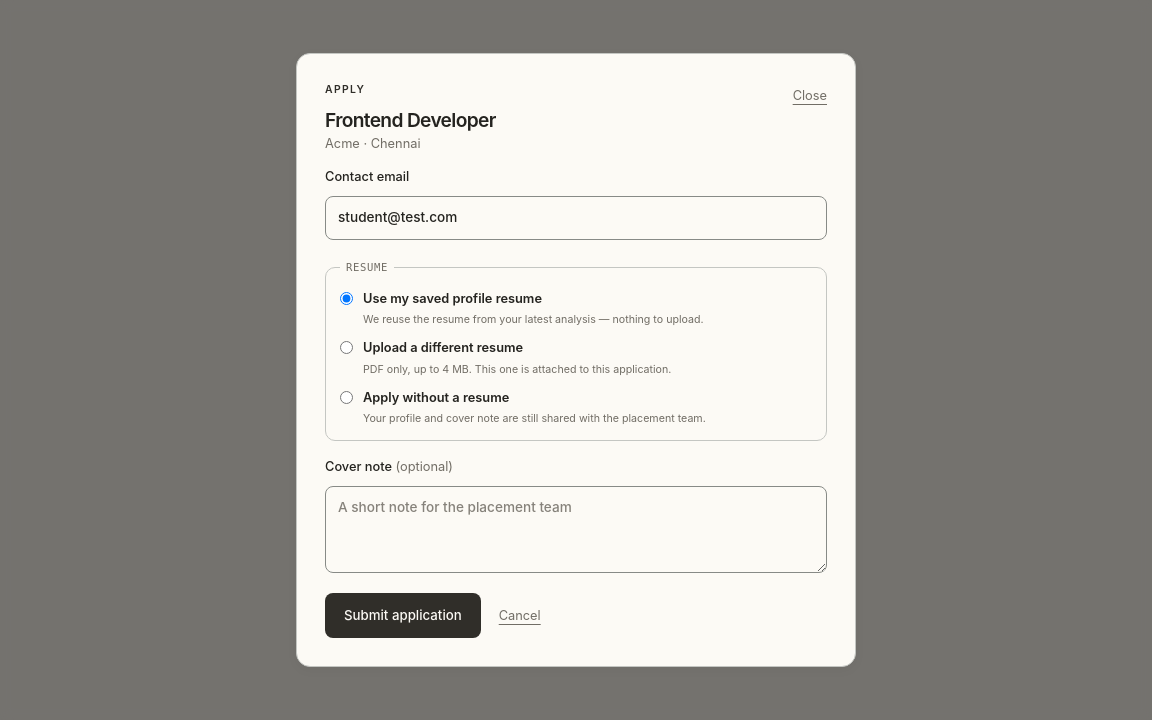
it: ApplyDialog › requires a file when uploading a different resume
Click the radio button labelled "Upload a different resume".
click(346, 348)  # box [340,341,353,354]
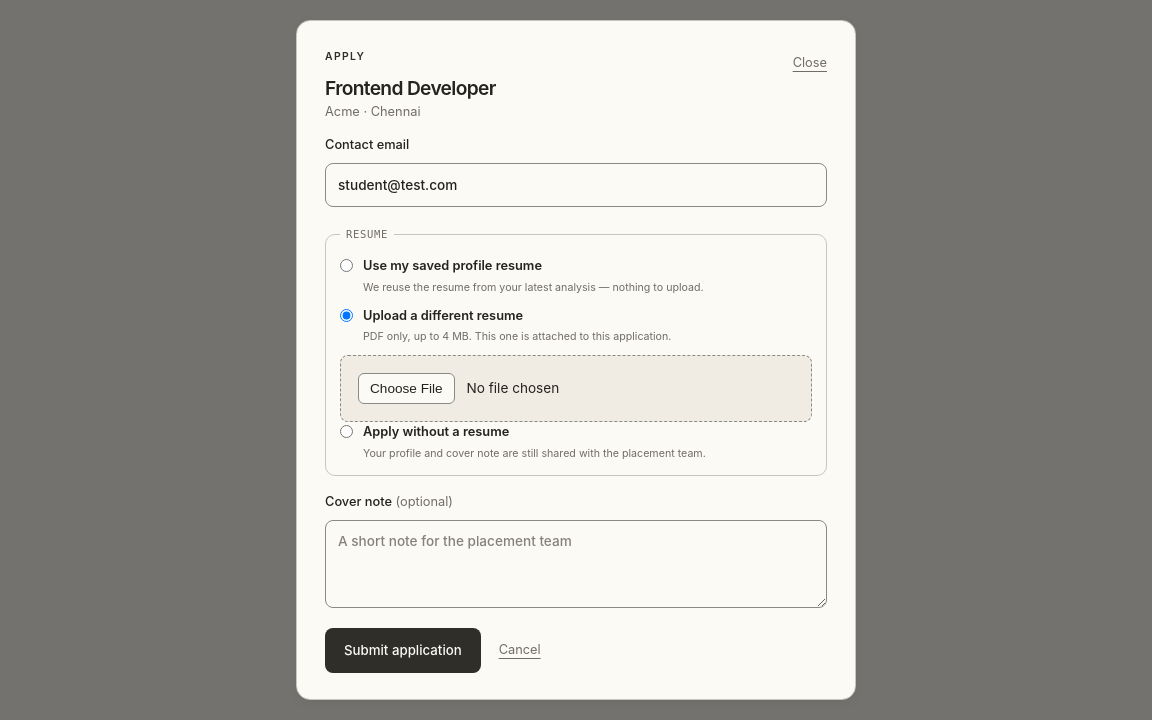
Click the button "Submit application".
click(403, 650)  # box [325,628,481,673]
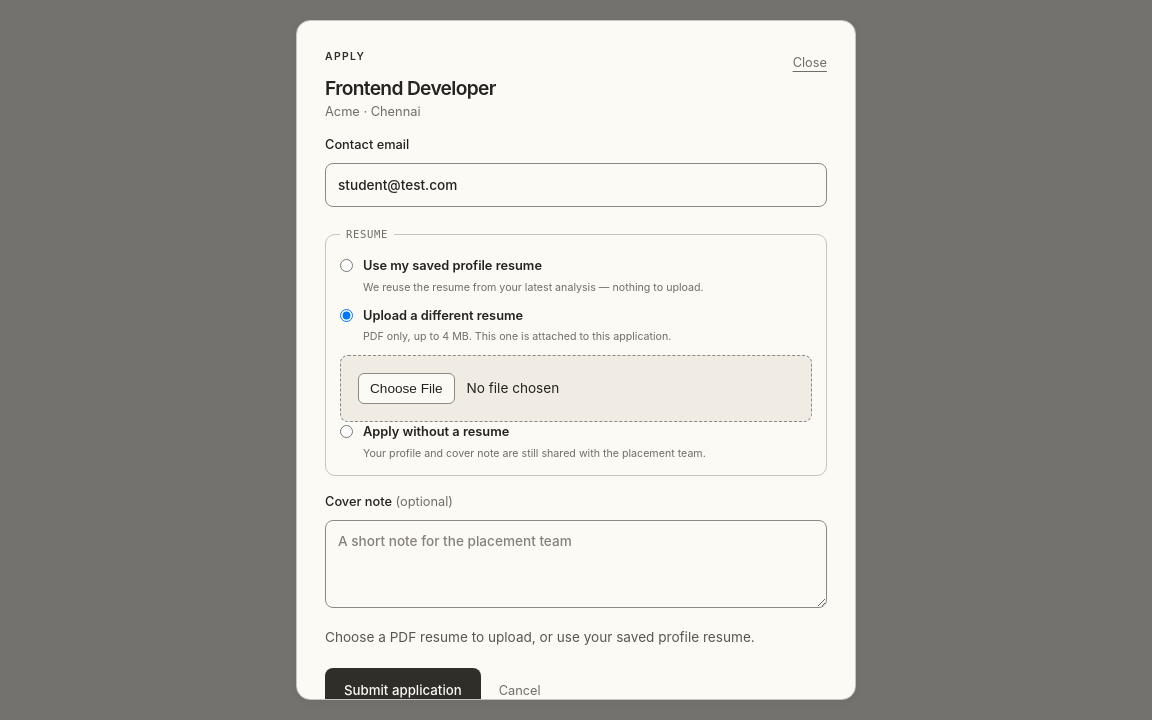
Check: the text "Choose a PDF resume" is shown, box [325,629,755,645]
